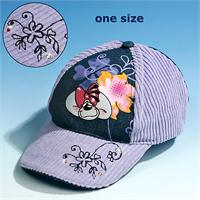hat: (20, 40, 189, 188)
